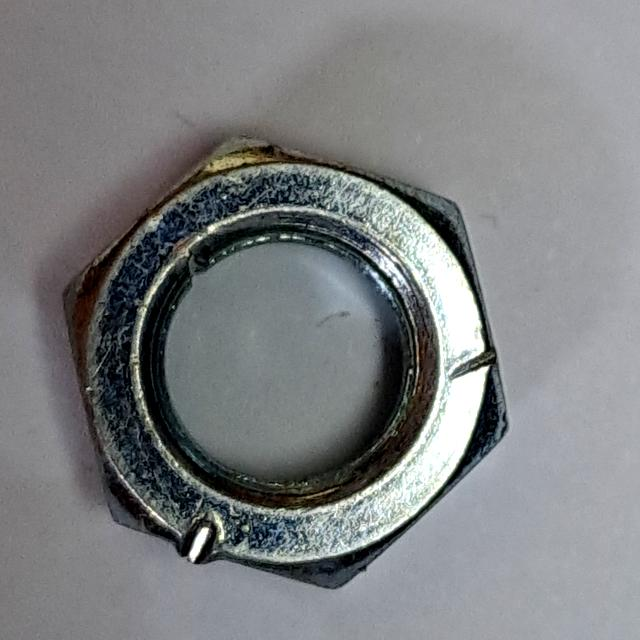Scratches: (42, 124, 524, 600)
